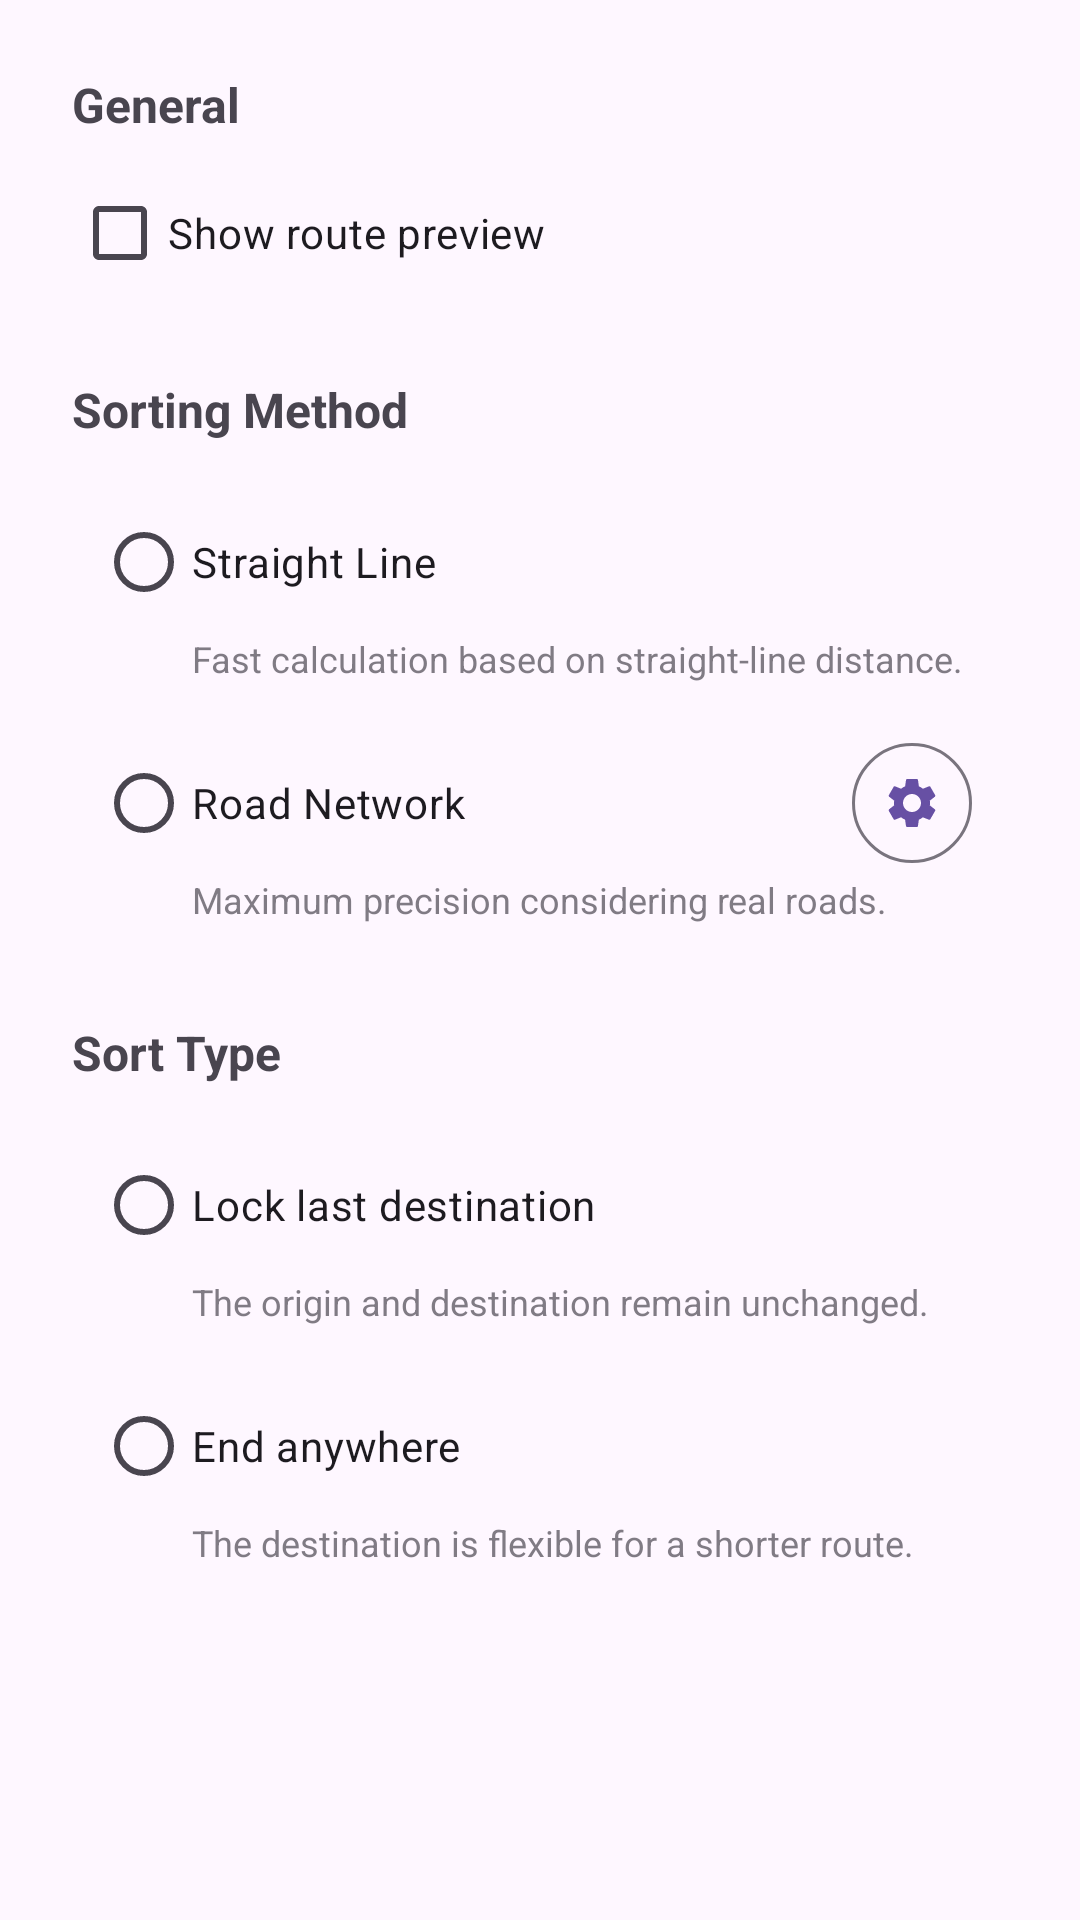

Icons on this 1080w x 1920h Android screen, each with its box as detection(x1, y1, x2, y2):
Configure OpenRouteService API key: detection(852, 743, 972, 863)
